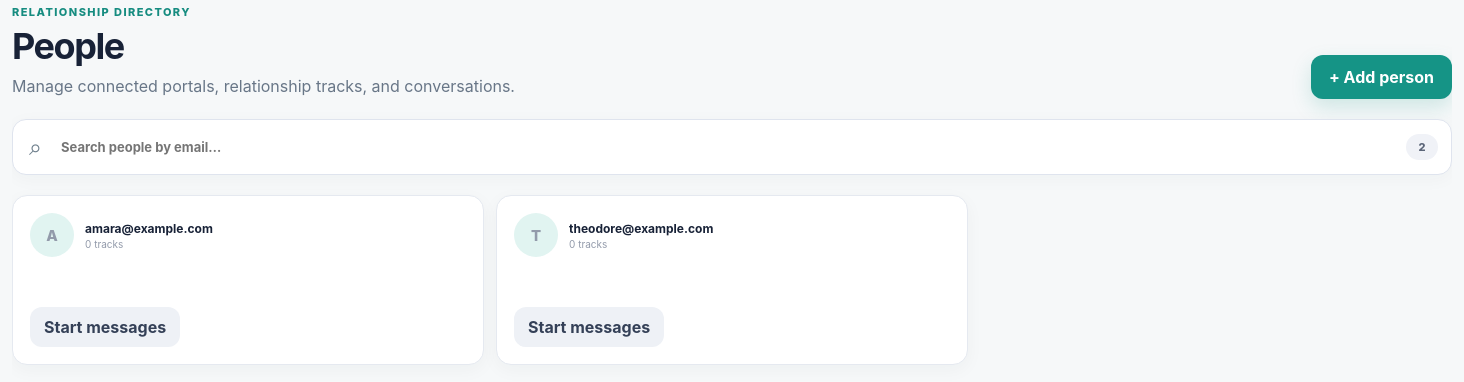
Test case: PeopleWorkspace › filters people by email without sending data to the API
Type "amara" into the search field named "Search people" at point(732, 147), box [12, 119, 1452, 175]
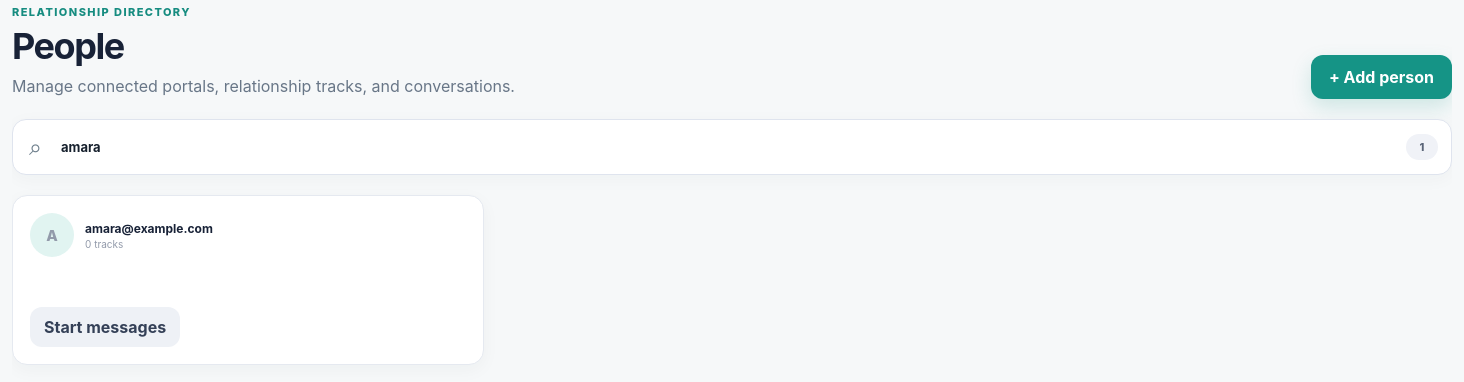
Check: the text "amara@example.com" is shown, box [85, 221, 213, 236]
Check: the text "theodore@example.com" is gone
